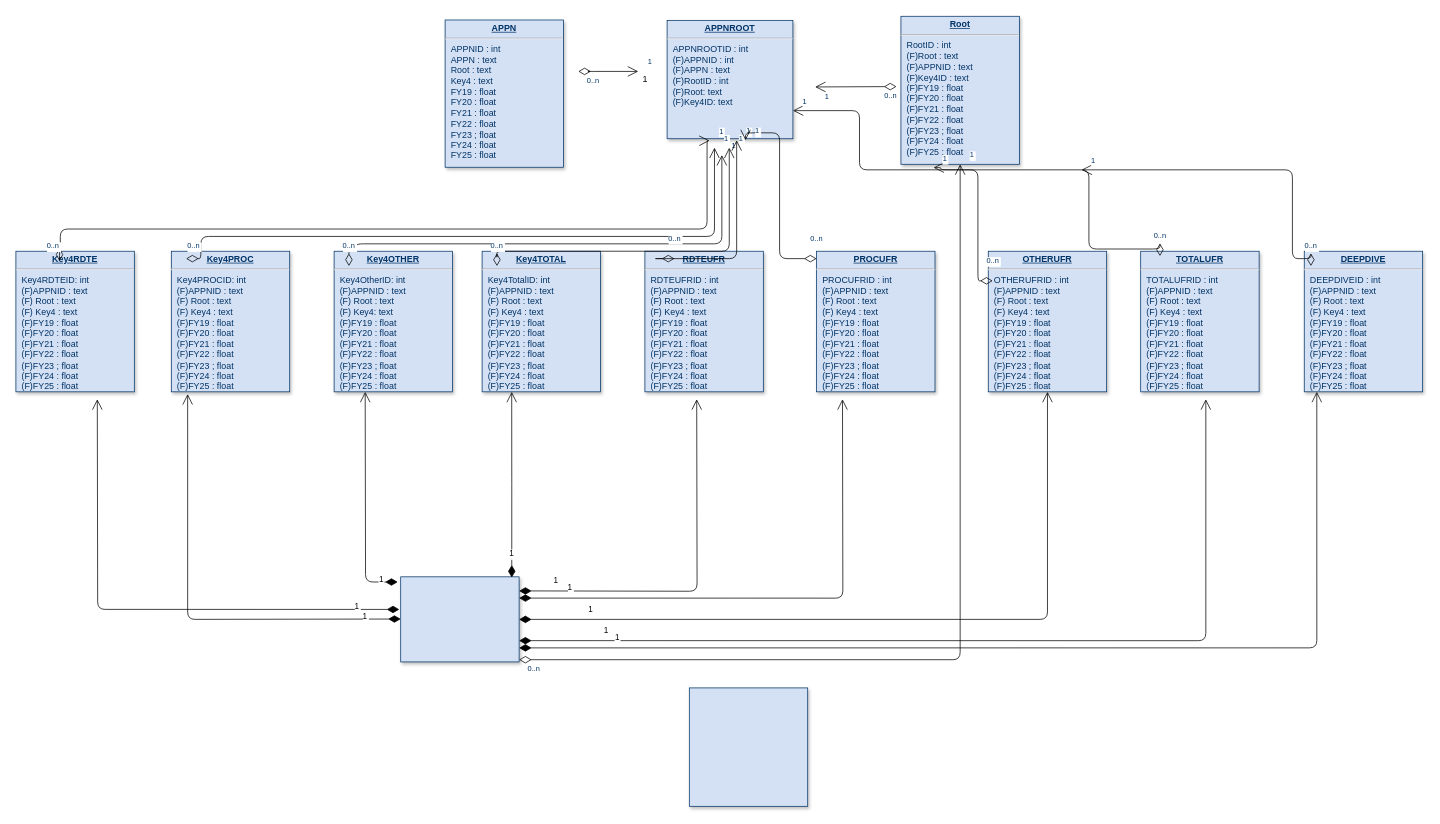
The diagram is 1440 pixels wide and 824 high, and some of its shapes have lost their labels. The shapes that lost their labels are listed below. From the top down, each one's centre as x and y in pixels, then its label:
At (460,620): "Program ProgramID : int Program : text".
At (749,747): "SSOApproval SSOApprovalID : int SSOUser : text".
